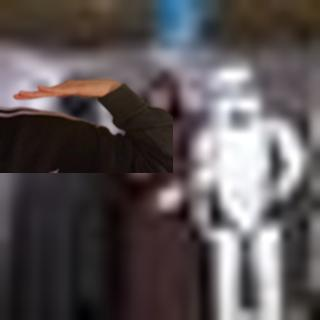Wait: (11, 68, 124, 103)
